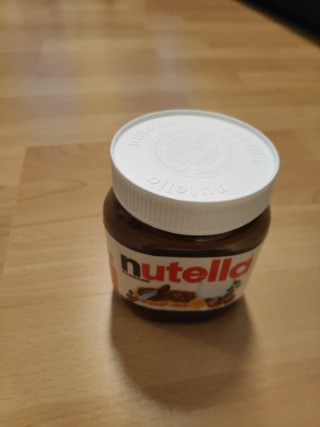nutella: (100, 107, 281, 326)
